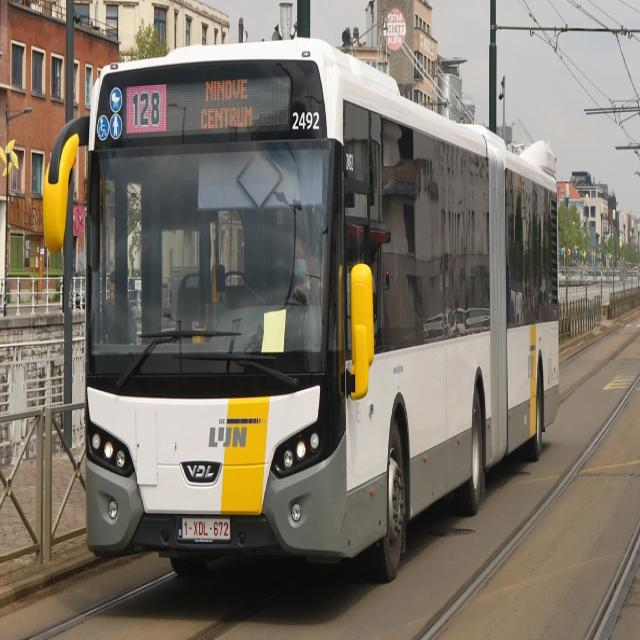bus-number: (126, 86, 166, 132)
